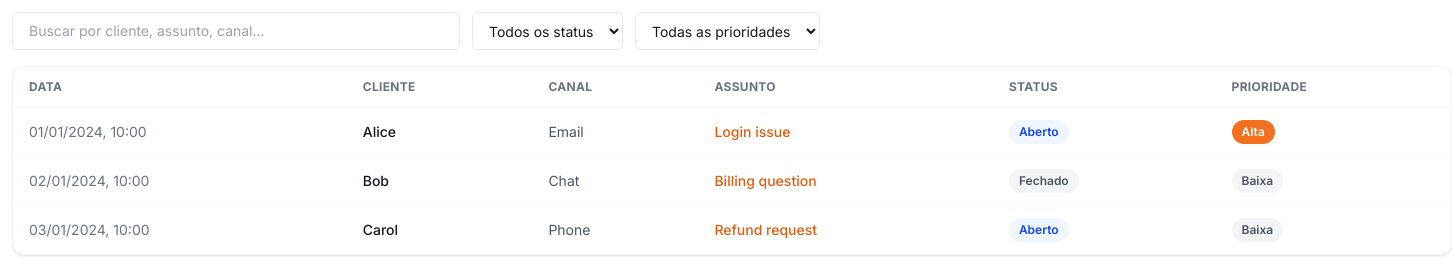
TicketsTable › filters rows by status
Select "Fechado" in the dropdown named "status" at (548, 31), box [472,12,623,50]
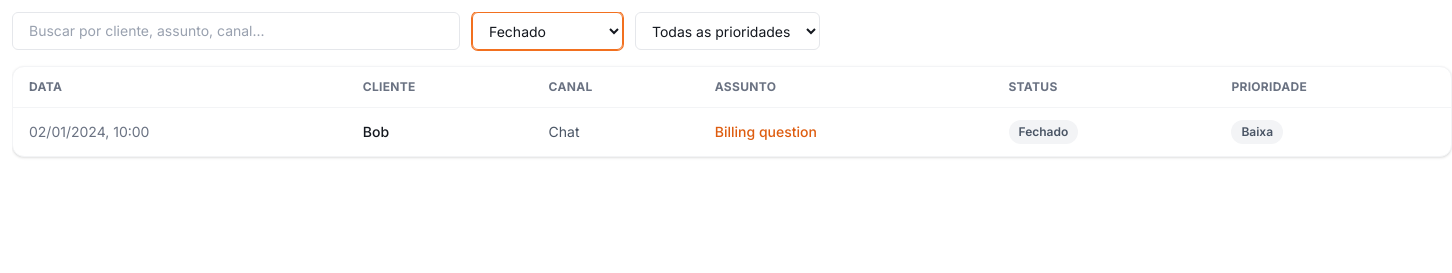
expect the text "Bob" is shown: met, box [347,108,533,156]
expect the text "Alice" is gone: met
expect the text "Carol" is gone: met
